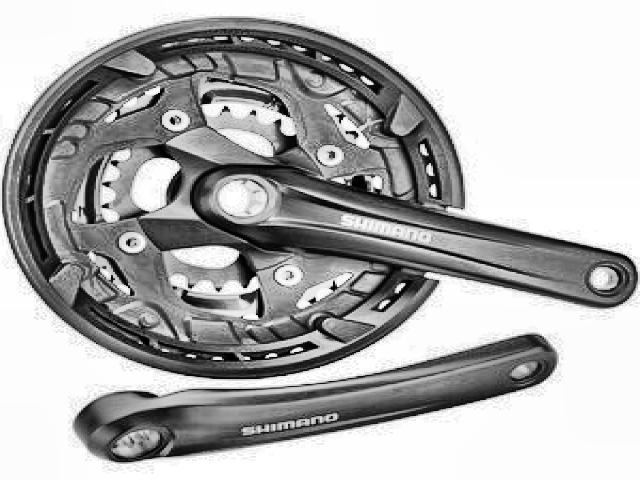cranks_set: (2, 14, 640, 383)
